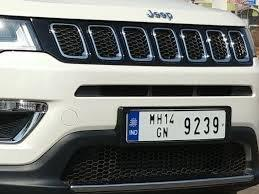Liscence Plate: (125, 112, 225, 140)
